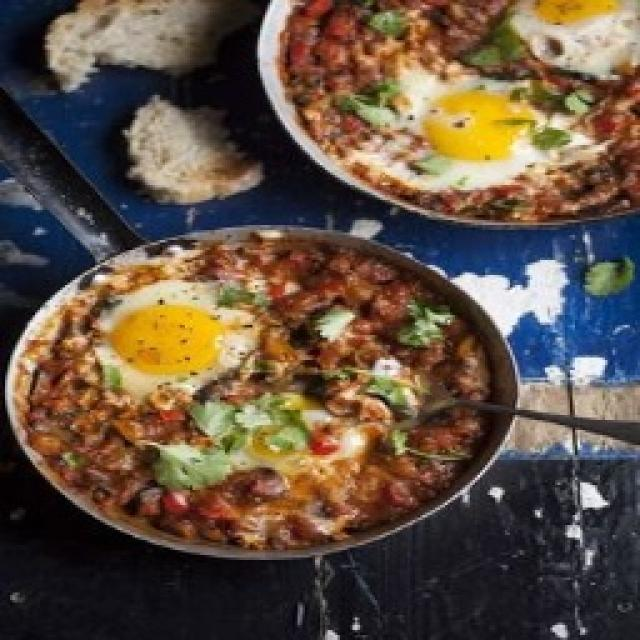Chakchouka: (30, 255, 489, 548), (261, 4, 640, 218)
